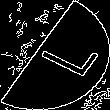L_NW: (18, 29, 92, 81)
